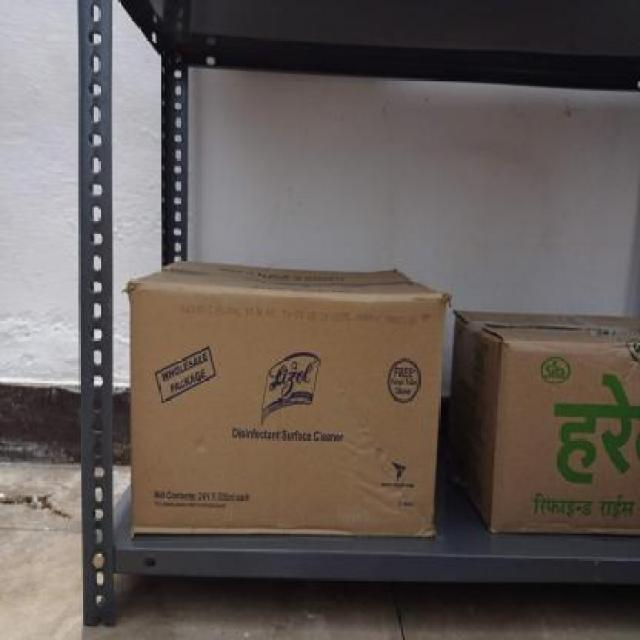box: (130, 292, 447, 531), (498, 342, 640, 538)
